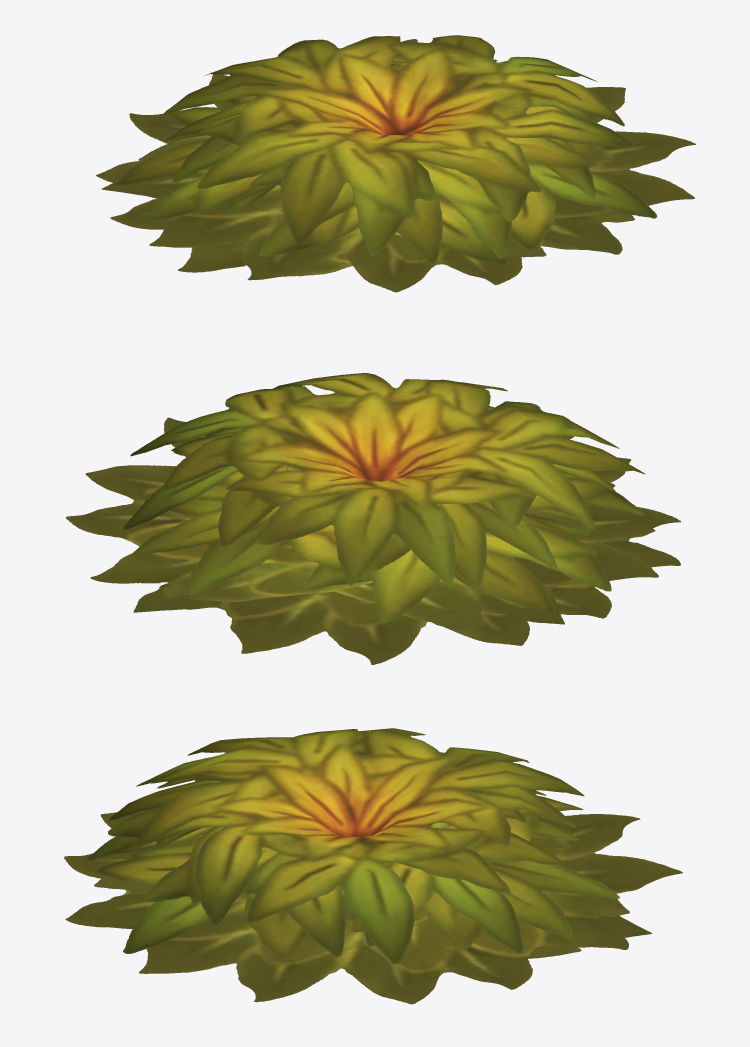
File: bush1.fbx
The picture shows the model from 3 angles, top to bottom: view 1: azimuth 30°, elevation 25°; view 2: azimuth 150°, elevation 25°; view 3: azimuth 270°, elevation 25°; orthographic projection. The views are drawn at different scales.
Visible parts, largest first — view 1: polySurface549; view 2: polySurface549; view 3: polySurface549.
Part boxes in pixels (left/top/right/bottom): polySurface549: left=96, top=35, right=695, bottom=292; polySurface549: left=66, top=373, right=680, bottom=664; polySurface549: left=64, top=728, right=682, bottom=1004.
Bounding box in the file's own units: 1.29 × 0.1522 × 1.21.
